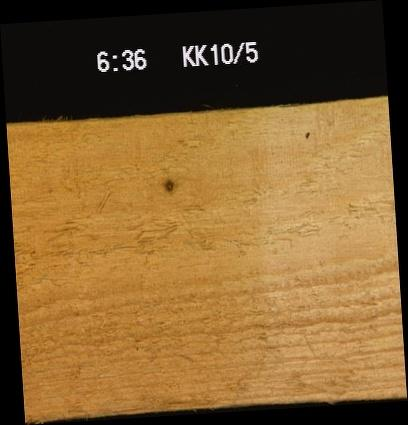small_knot: (160, 172, 176, 196), (299, 125, 312, 141)
